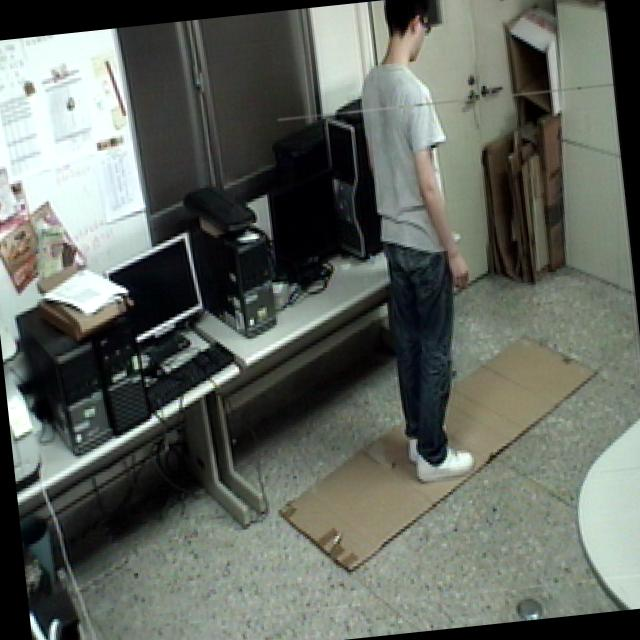stand: (342, 0, 497, 489)
